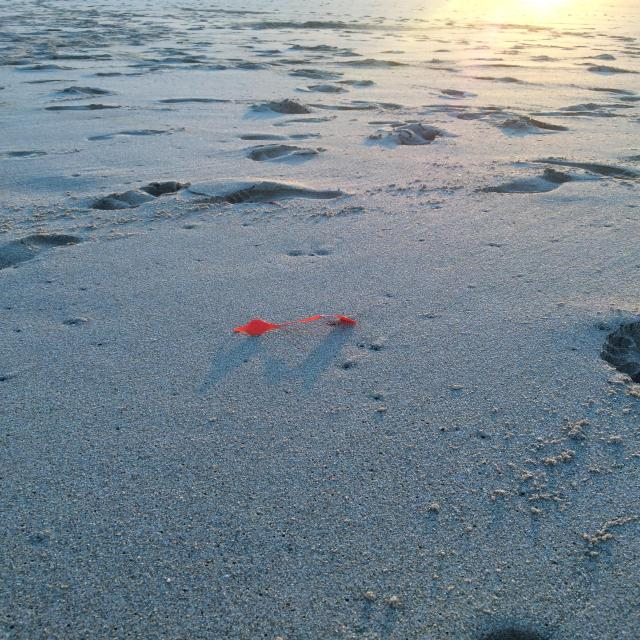litter: (234, 315, 357, 336)
